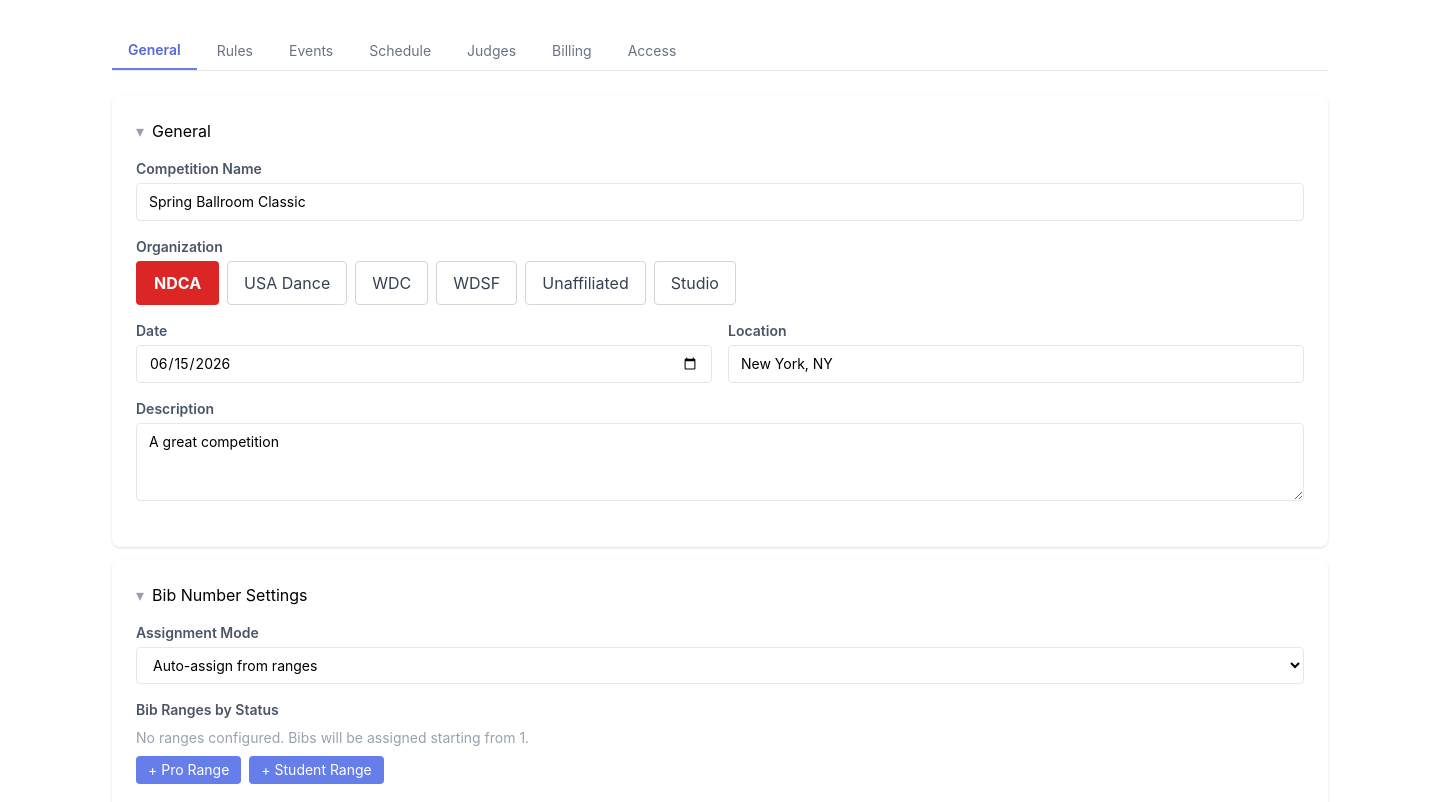
Test: CompetitionSettingsPage › should show competition admin section
// Click the Access tab to reveal the Competition Admins section
Step 1. Click the button "Access" → (652, 51), box [612,32,692,70]
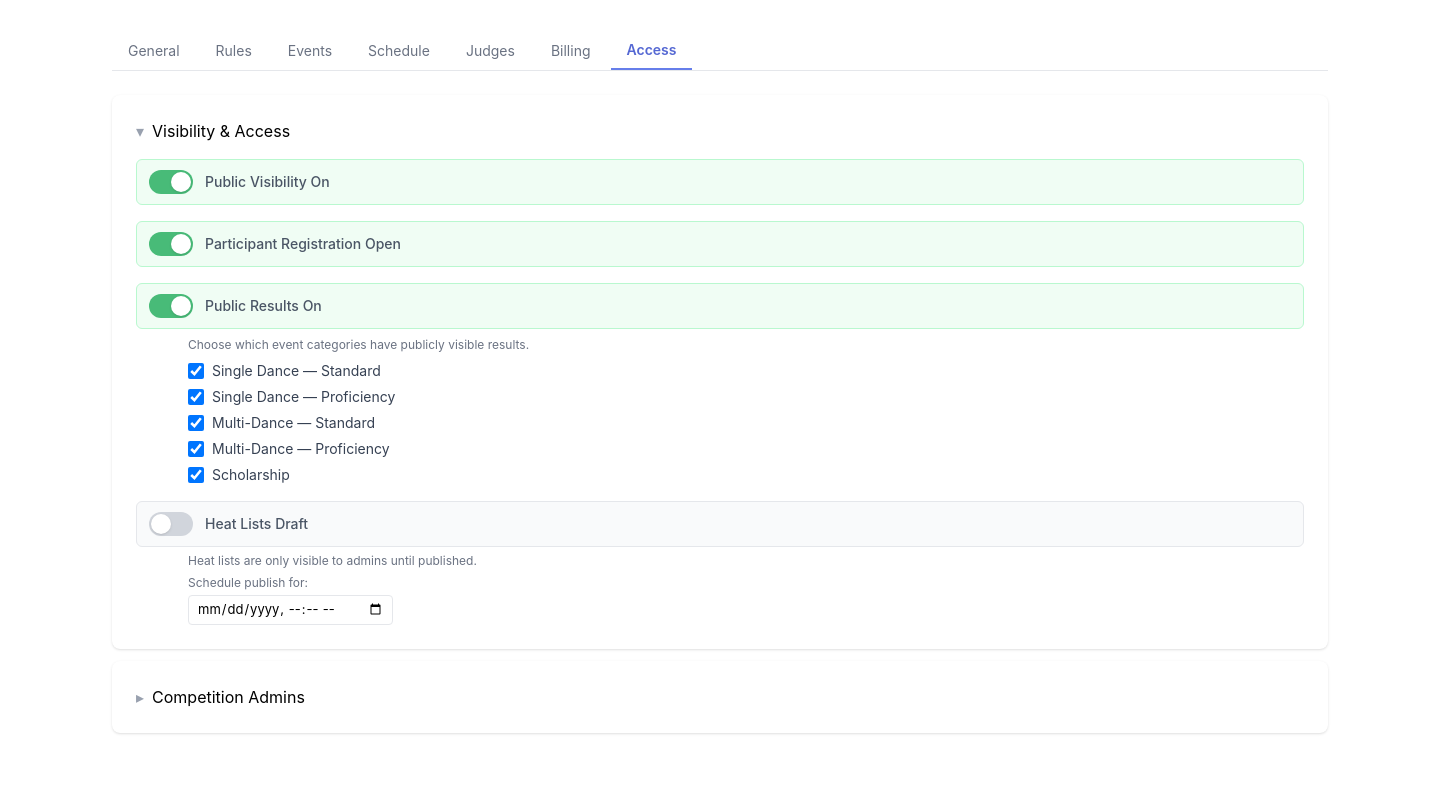
Expected: the heading "▸Competition Admins" is shown, [136,684,305,708]
